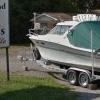Boat: (22, 9, 100, 92)
